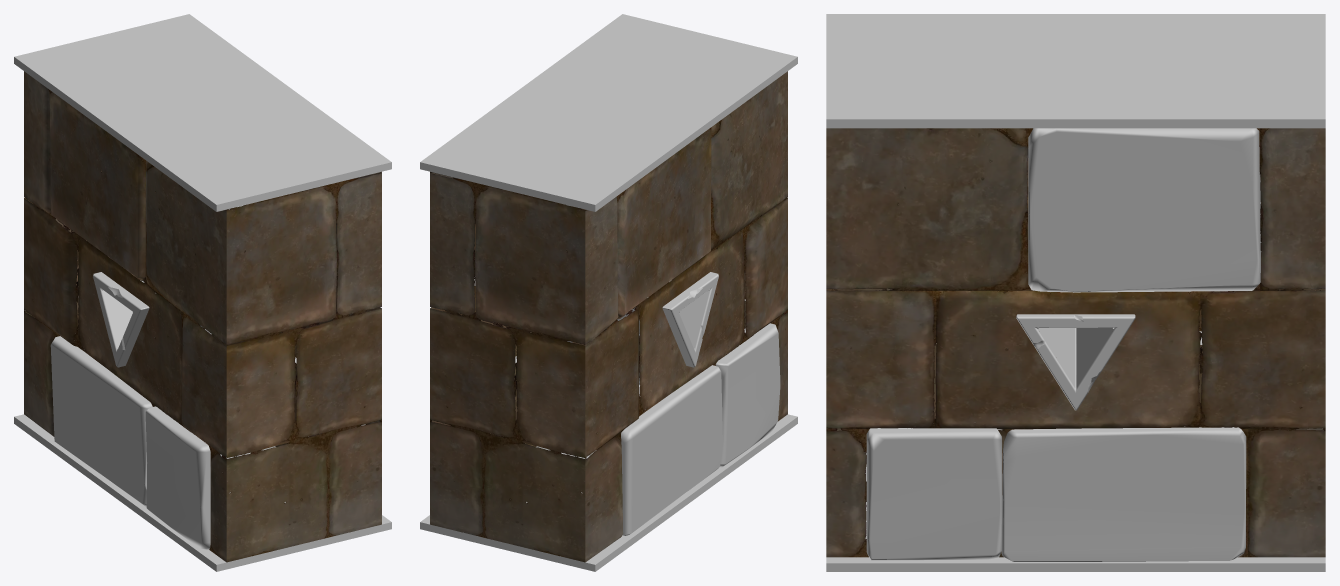
3 renders of one model, left to right at view 1: azimuth 30°, elevation 25°; view 2: azimuth 150°, elevation 25°; view 3: azimuth 270°, elevation 25°, orthographic. The views are drawn at different scales.
Visible parts, largest first — view 1: SM_DK_4m_Wall_02_LOD0; view 2: SM_DK_4m_Wall_02_LOD0; view 3: SM_DK_4m_Wall_02_LOD0.
Part boxes in pixels (bbox=[...]): SM_DK_4m_Wall_02_LOD0: bbox=[14, 14, 391, 571]; SM_DK_4m_Wall_02_LOD0: bbox=[420, 14, 797, 571]; SM_DK_4m_Wall_02_LOD0: bbox=[826, 14, 1325, 571].
Bounding box in the file's own units: 2.03 × 4 × 4.
